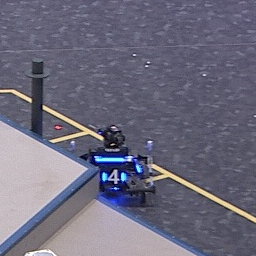Blue: (101, 170, 127, 183)
Robot: (75, 123, 157, 207)
